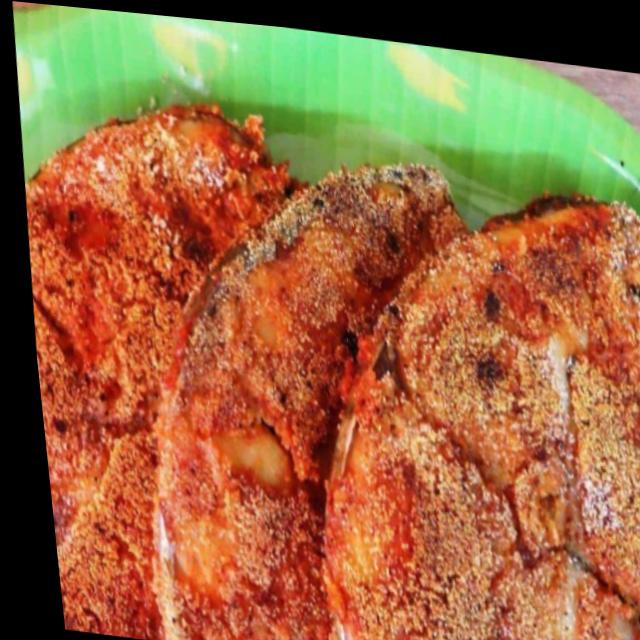FISH FRY: (25, 96, 640, 640)
